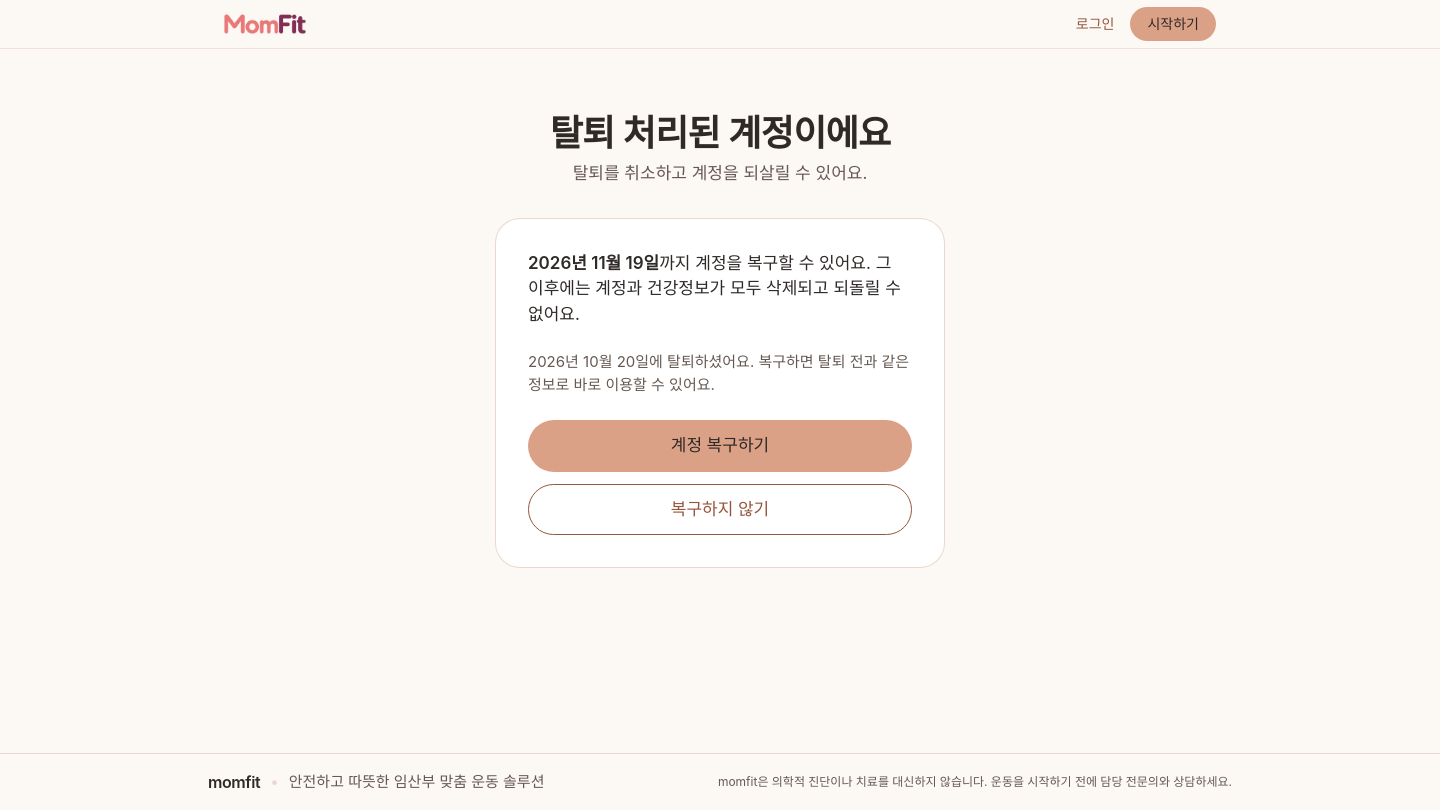
탈퇴 계정 복구 화면 › 복구에 실패하면 안내를 보여주고 다시 시도할 수 있다
expect the text "2026년 11월 19일" is shown: met, box [528,252,659,272]
Click the button "계정 복구하기".
click(720, 446)  # box [528,420,912,472]
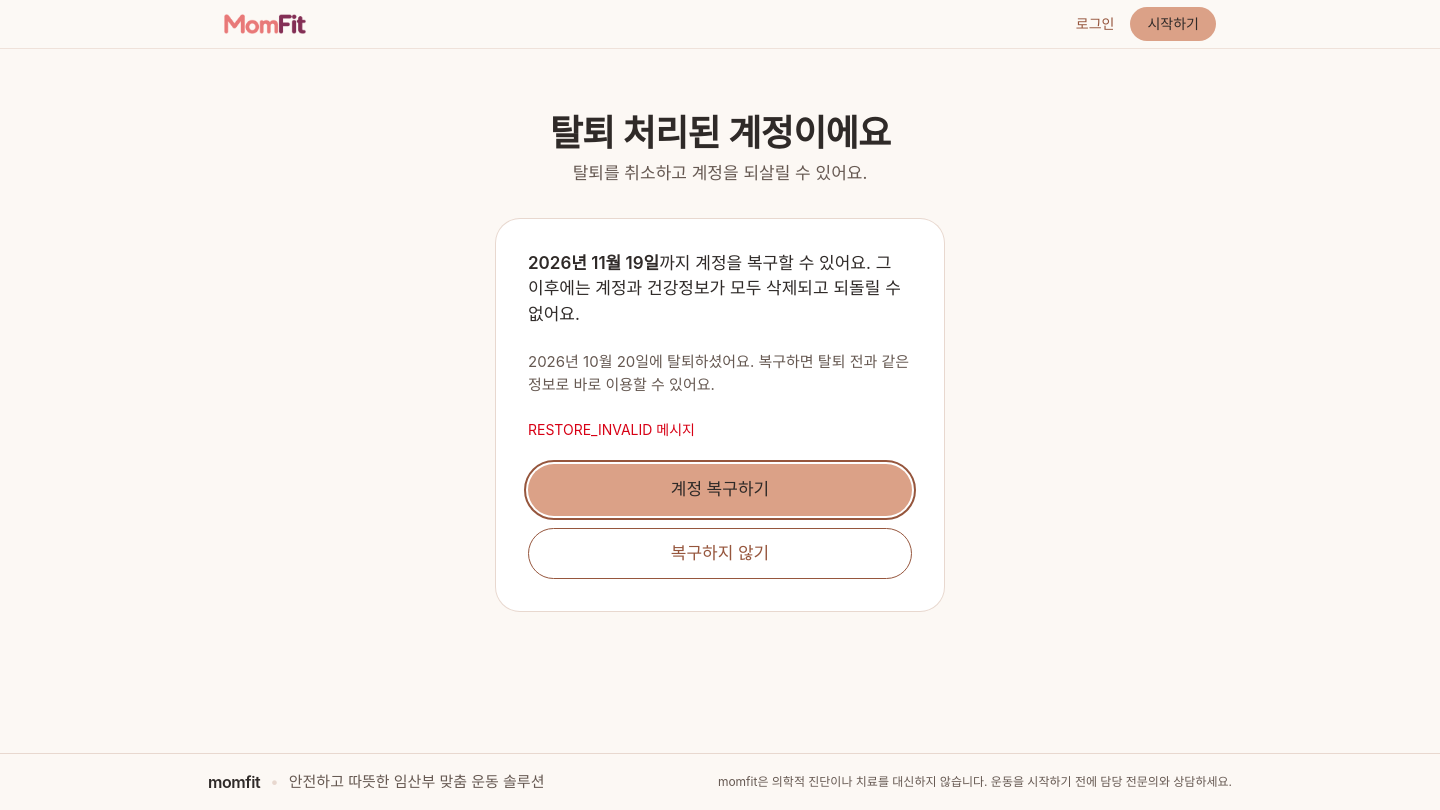
expect the button "계정 복구하기" is enabled: met, box [528,464,912,516]
expect the message reads "RESTORE_INVALID 메시지": met, box [528,421,695,438]
